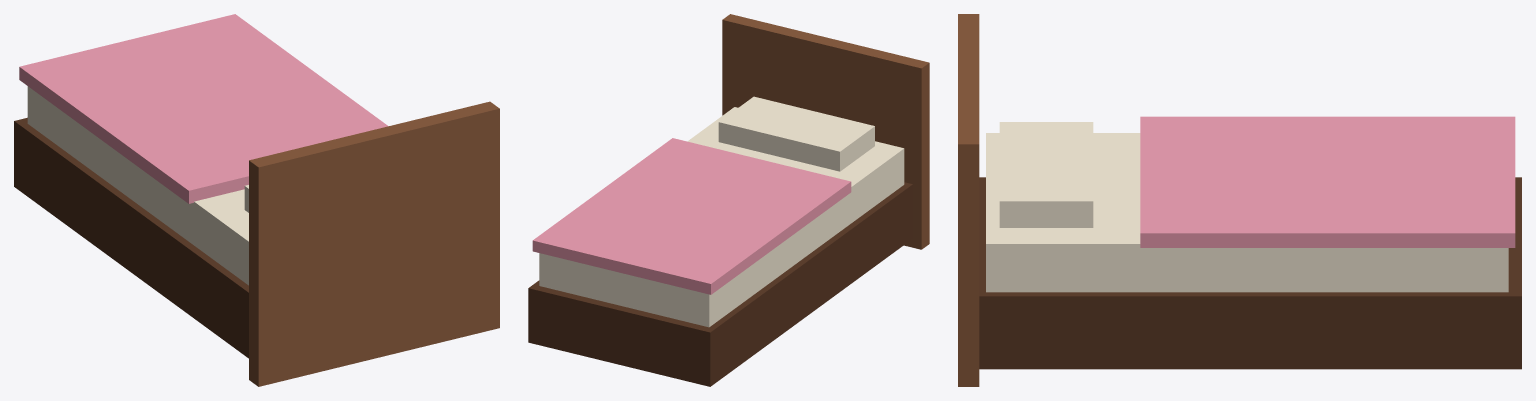
The model's file is bed.glb.
The picture shows the model from 3 angles, left to right: view 1: azimuth 30°, elevation 25°; view 2: azimuth 150°, elevation 25°; view 3: azimuth 270°, elevation 25°; orthographic projection. The views are drawn at different scales.
Parts seen in each view (by area): view 1: Box5, Box3, Box1, Box2; view 2: Box3, Box1, Box5, Box2, Box4; view 3: Box3, Box1, Box2, Box4, Box5.
Boxes of the visible parts, <box> form: Box5: <box>249,101,499,386</box>; Box3: <box>19,14,388,203</box>; Box1: <box>14,117,248,358</box>; Box2: <box>27,86,248,285</box>; Box3: <box>532,138,851,294</box>; Box1: <box>528,182,912,386</box>; Box5: <box>722,14,929,249</box>; Box2: <box>539,107,904,327</box>; Box4: <box>718,96,874,171</box>; Box3: <box>1140,116,1515,247</box>; Box1: <box>979,177,1521,369</box>; Box2: <box>986,133,1508,292</box>; Box4: <box>999,122,1093,227</box>; Box5: <box>958,14,979,386</box>.
Size of the model in its own units: 1.15 by 1 by 2.11.
